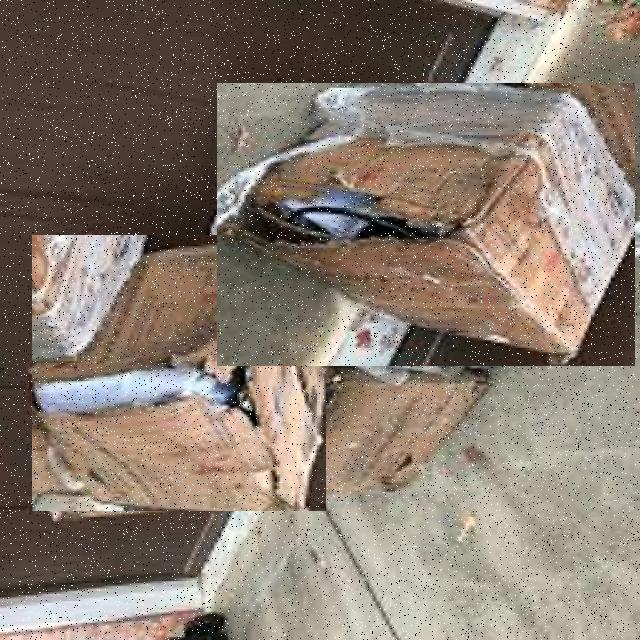defect: (217, 83, 635, 366), (32, 235, 326, 511)
